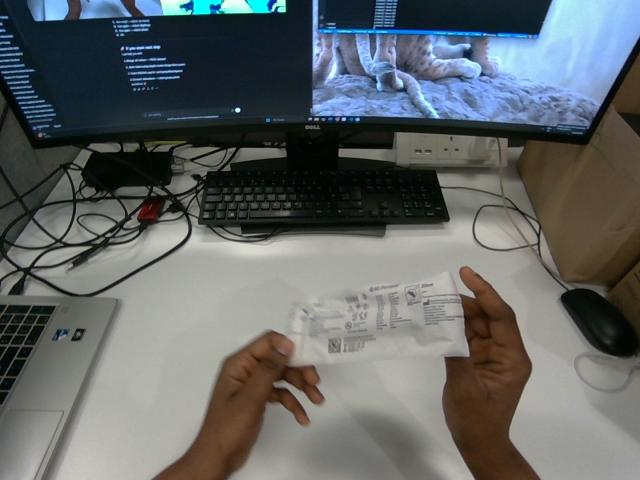syringe: (286, 272, 468, 365)
